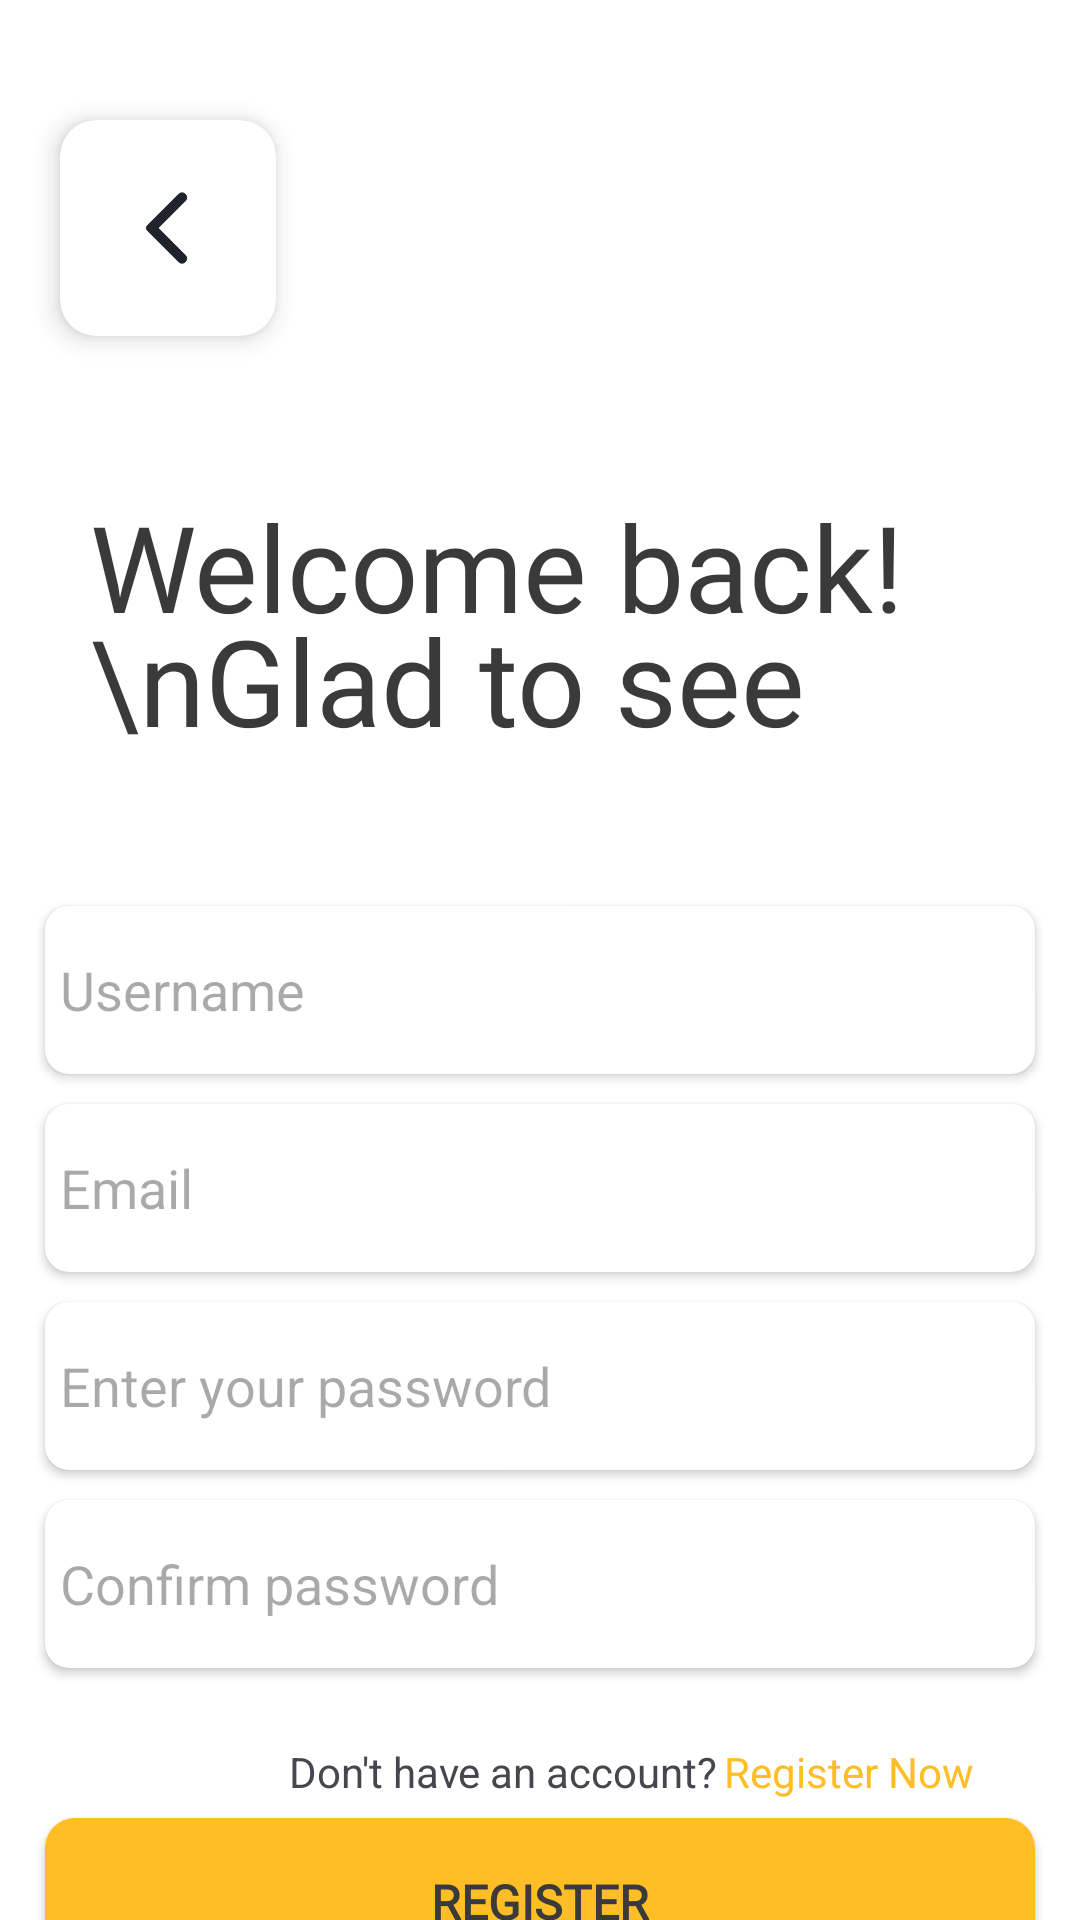

Named icons in this screenshot (1080×1920) and their centers, (x=x, y=y):
back arrow: (x=167, y=228)
